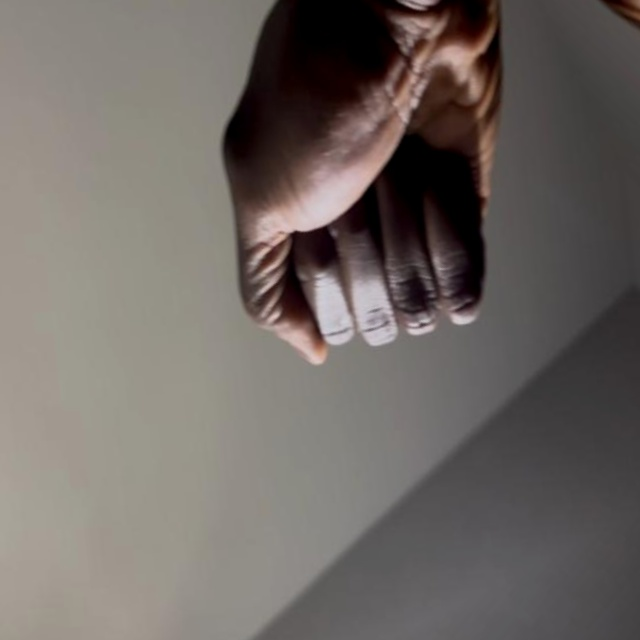Rock: (52, 0, 640, 479)
